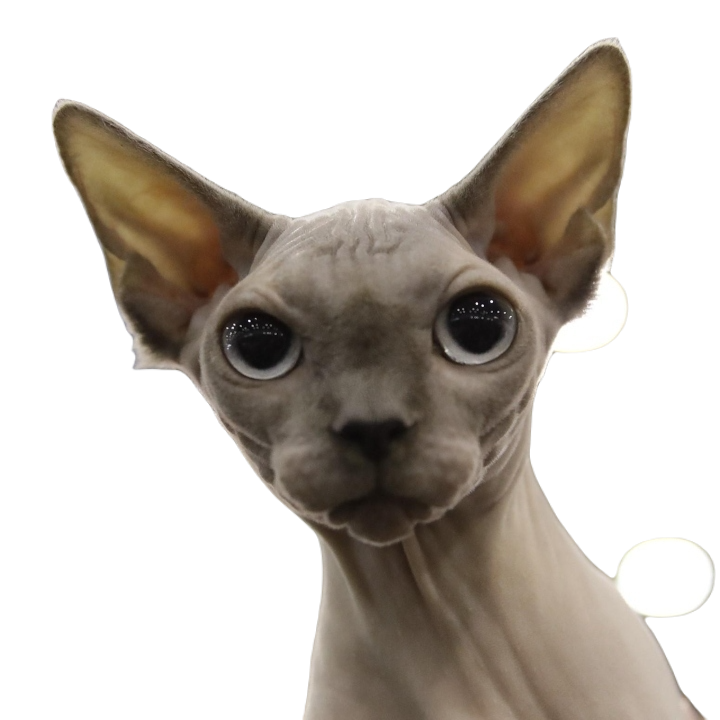Cat: (20, 46, 719, 719)
